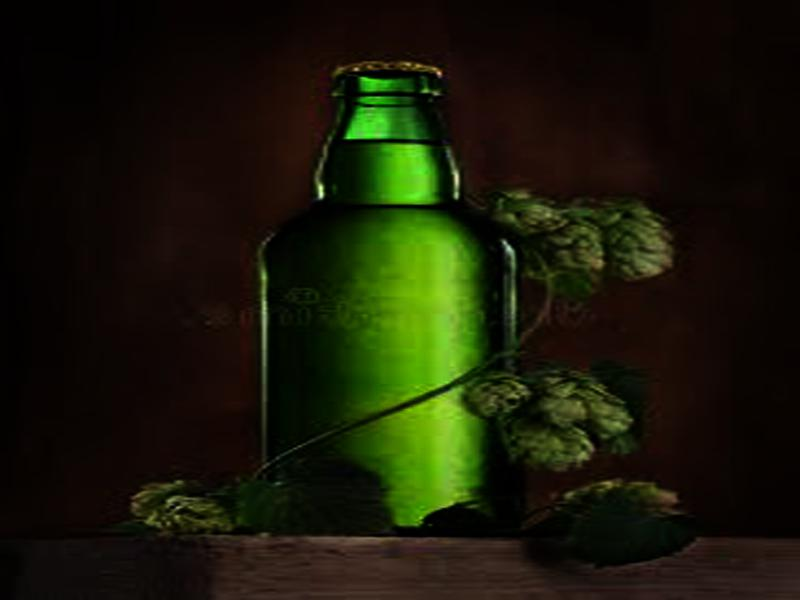Beer: (257, 59, 510, 543)
